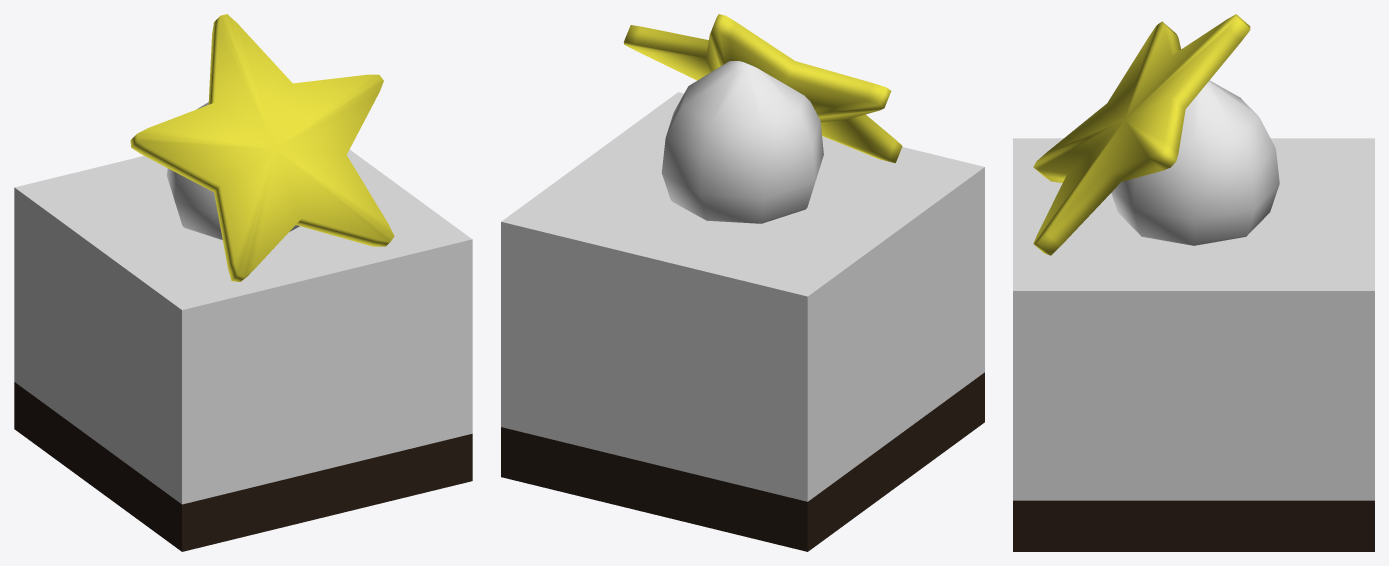
The model's file is cake_brown_front_1.fbx.
The picture shows the model from 3 angles, left to right: view 1: azimuth 30°, elevation 25°; view 2: azimuth 150°, elevation 25°; view 3: azimuth 270°, elevation 25°; orthographic projection. The views are drawn at different scales.
Visible parts, largest first — view 1: 立方体.036; view 2: 立方体.036; view 3: 立方体.036.
Boxes of the visible parts, <box> form: 立方体.036: <box>14,14,472,551</box>; 立方体.036: <box>501,14,984,551</box>; 立方体.036: <box>1013,14,1374,551</box>.
Bounding box in the file's own units: 14.6 × 20.47 × 14.6.
